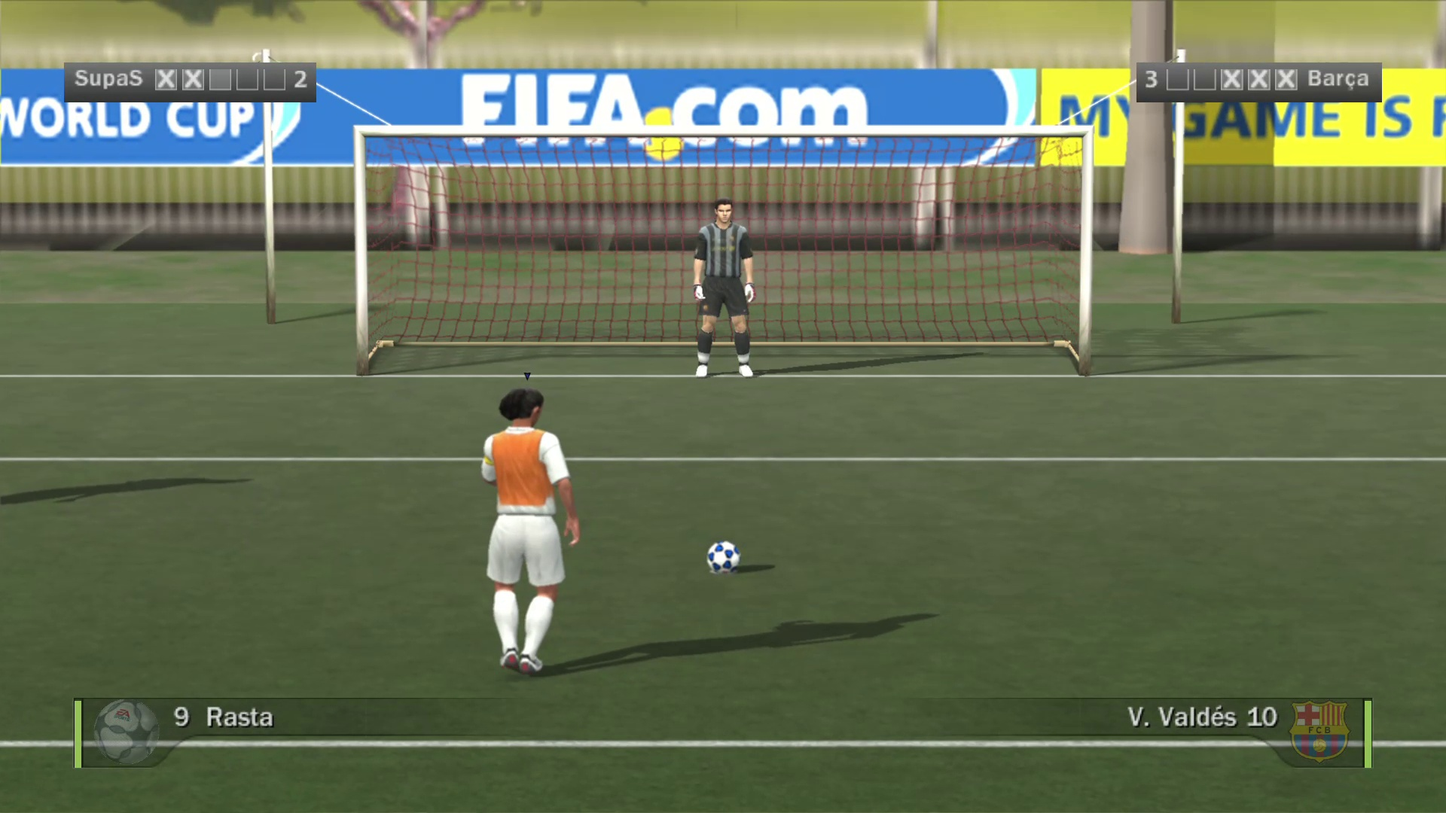ball: (687, 522, 724, 556)
goal_post: (8, 20, 721, 253)
keeper: (653, 108, 727, 287)
kicker: (444, 243, 525, 525)
